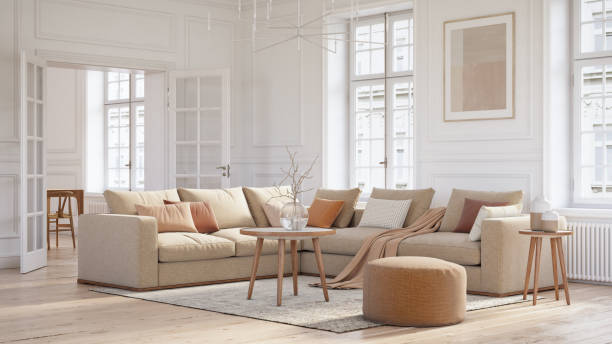flower vase: (273, 148, 315, 231)
side table: (519, 228, 573, 308)
sofa: (74, 184, 568, 294)
table: (238, 224, 337, 306)
wall art: (442, 11, 515, 121)
